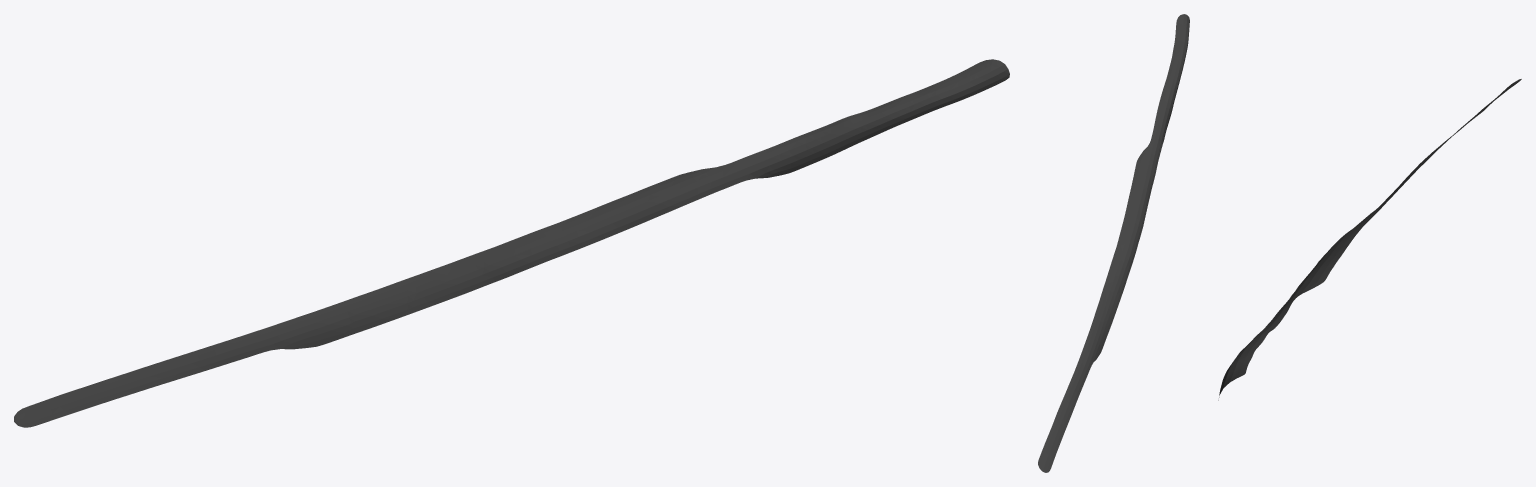
Rendered from Radius_border_medial.glb.
The picture shows the model from 3 angles, left to right: view 1: azimuth 90°, elevation 25°; view 2: azimuth 150°, elevation 25°; view 3: azimuth 330°, elevation 25°; orthographic projection. The views are drawn at different scales.
Parts seen in each view (by area): view 1: Radius_border_medial; view 2: Radius_border_medial; view 3: Radius_border_medial.
Part boxes in pixels (x1=…): Radius_border_medial: x1=14, y1=59, x2=1009, y2=427; Radius_border_medial: x1=1038, y1=14, x2=1189, y2=472; Radius_border_medial: x1=1218, y1=79, x2=1521, y2=400.
Bounding box in the file's own units: 0.4325 × 0.3125 × 1.26.
Materials: 1 (1 with a texture image).
